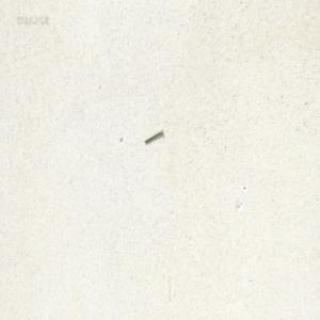Bolttrack_idkeyframe: (143, 126, 162, 142)
